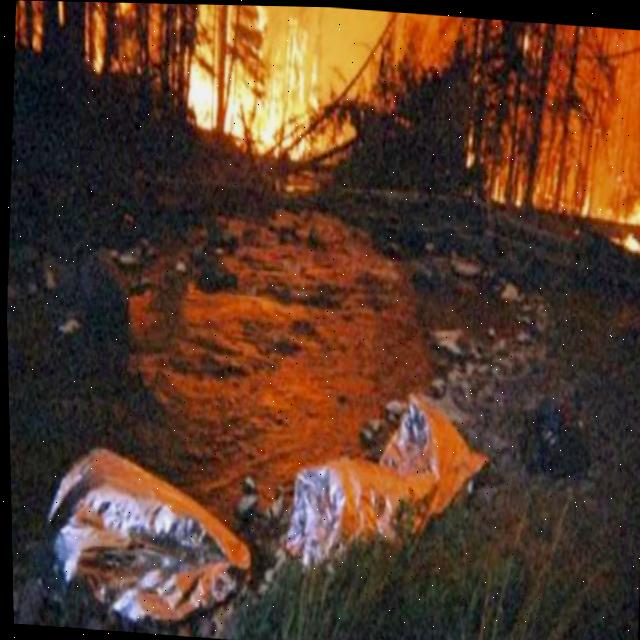fire: (184, 3, 321, 156), (614, 198, 640, 246)
smoke: (535, 24, 640, 212), (283, 5, 473, 95)
